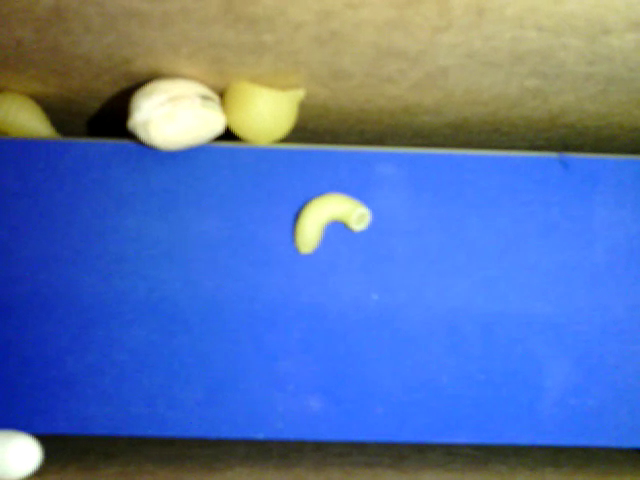elbow: (294, 190, 372, 254)
shell: (218, 79, 305, 144), (1, 89, 67, 137)
